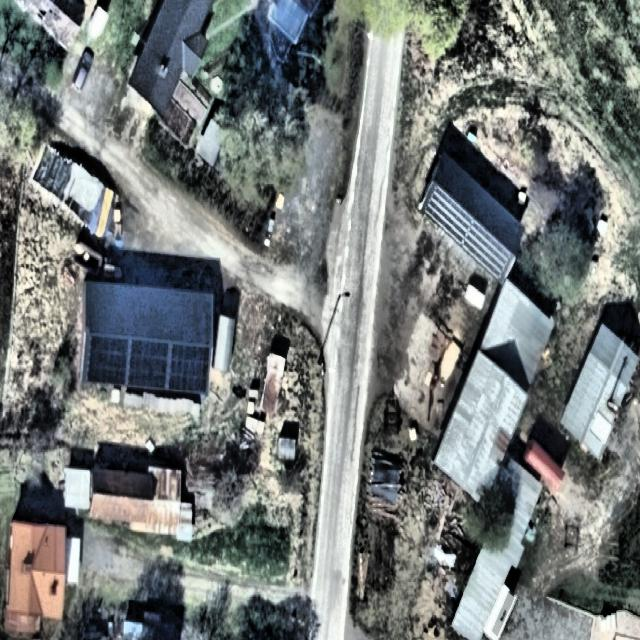roof_pv: (467, 216, 512, 276), (425, 188, 474, 241), (170, 341, 212, 402), (86, 340, 132, 387), (130, 341, 171, 390)
